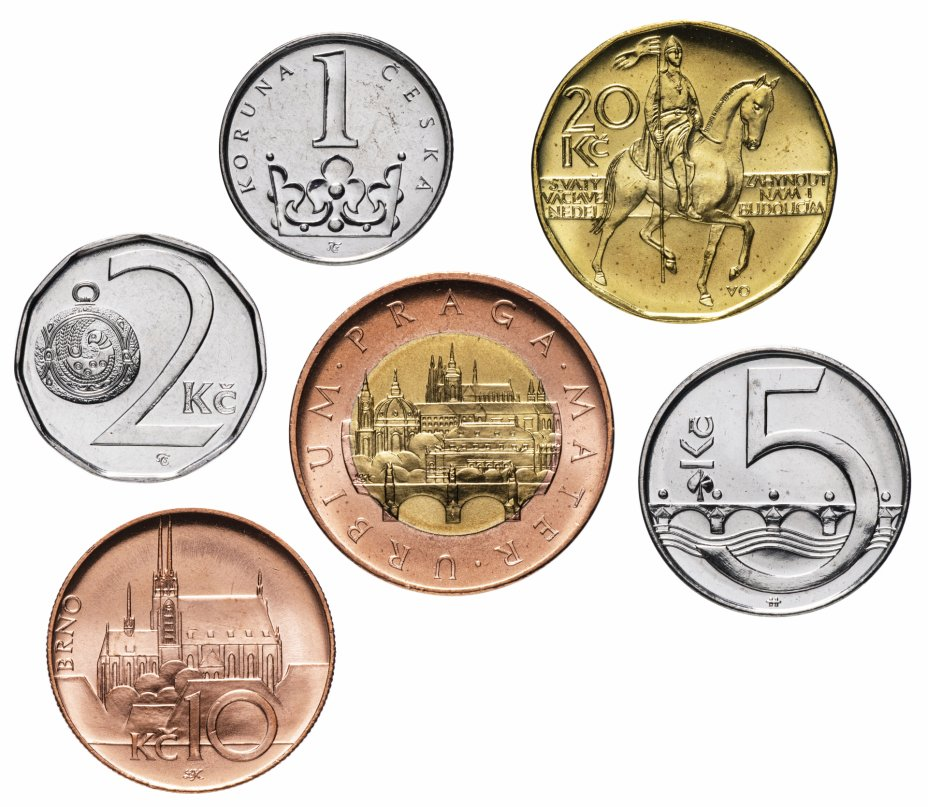coin: (289, 267, 616, 596), (531, 18, 840, 330), (44, 507, 337, 794), (636, 348, 914, 618), (13, 229, 268, 482), (218, 32, 458, 267)
